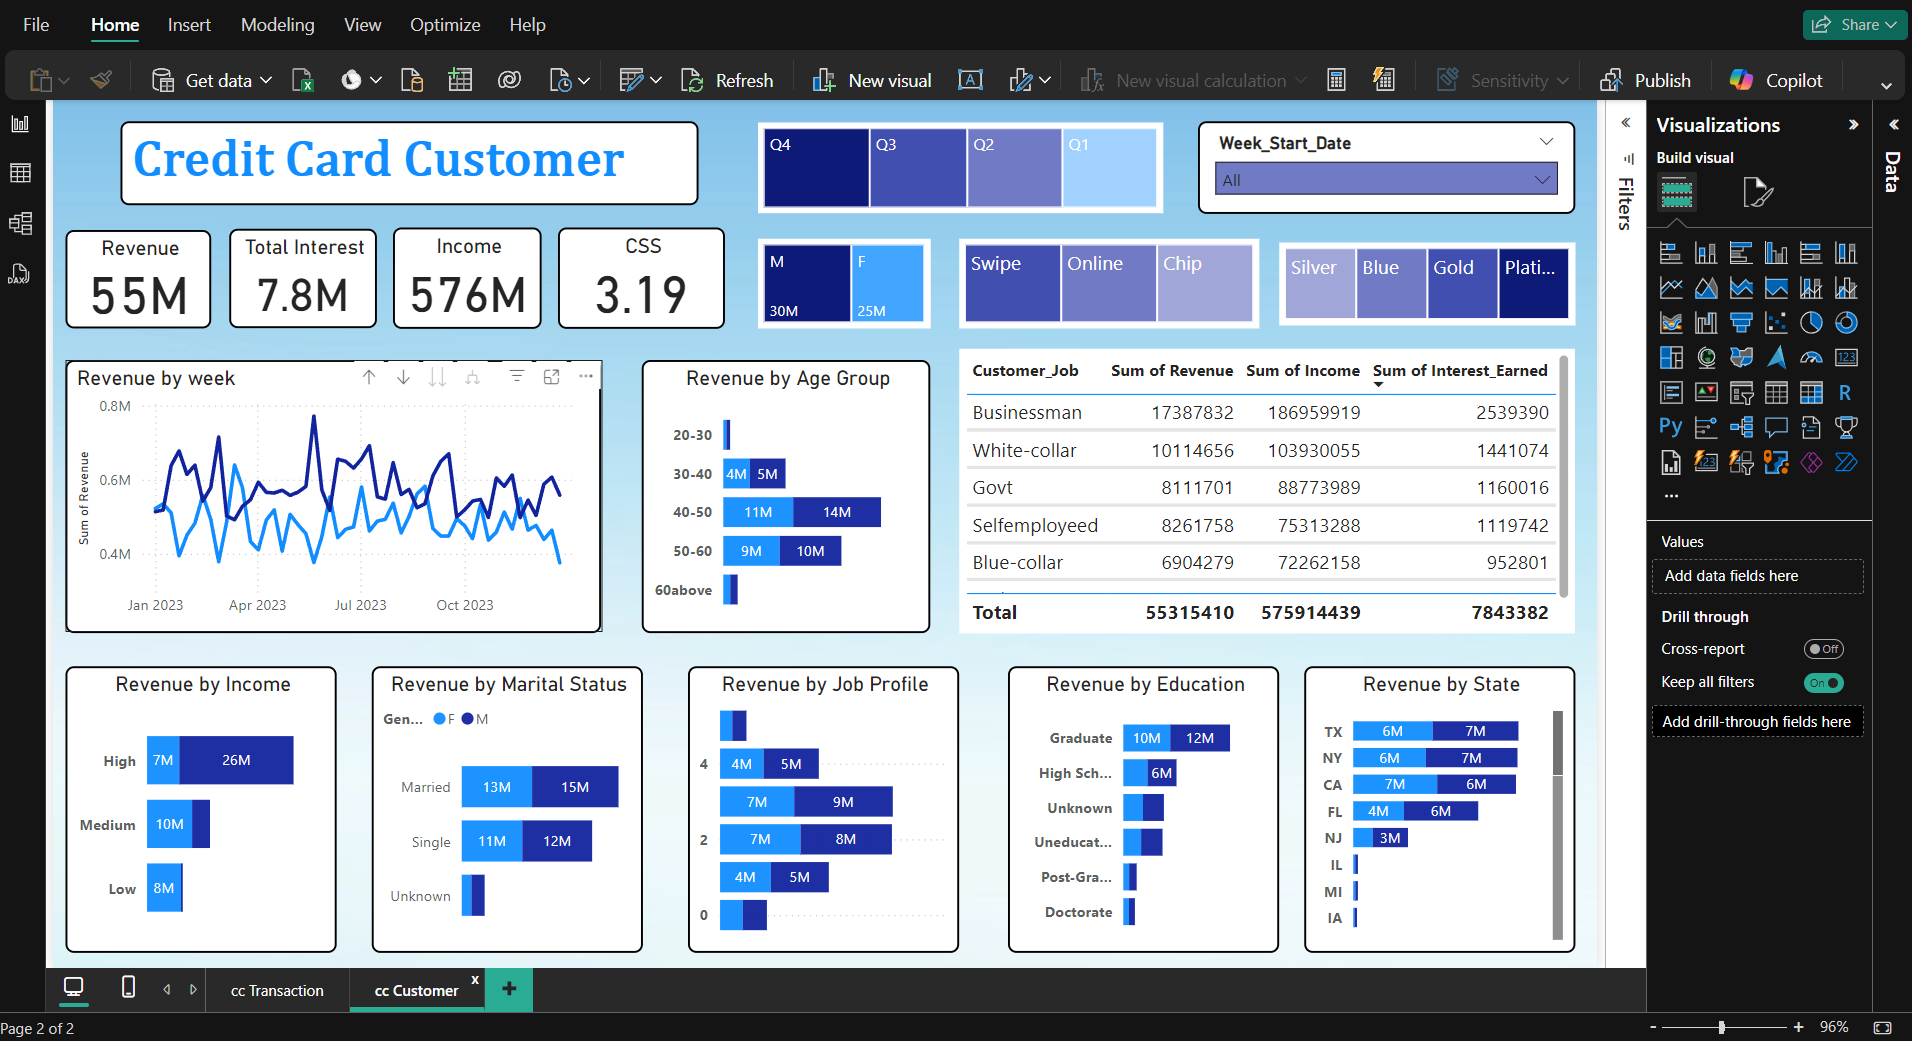

The page's visual inventory and layout, read from the dashboard file:
{"tool":"powerbi","page":{"name":"cc Customer","canvas":[1280,720],"ordinal":1},"visuals":[{"type":"textbox","box":[55.8,17.4,479.1,69.8],"z":0},{"type":"barChart","title":"Revenue by Income","fields":{"Y":["Sum(credit_card_db credit_card_details.Revenue)"],"Category":["credit_card_db customer_details.incomegroup"],"Series":["credit_card_db customer_details.Gender"]},"box":[10.5,469.8,225,237.2],"z":1000},{"type":"card","title":"Revenue","fields":{"Values":["Sum(credit_card_db credit_card_details.Revenue)"]},"box":[10.5,108.1,120.9,81.4],"z":2000},{"type":"card","title":"Total Interest","fields":{"Values":["Sum(credit_card_db credit_card_details.Interest_Earned)"]},"box":[146.5,107,122.1,82.6],"z":3000},{"type":"card","title":"Income","fields":{"Values":["Sum(credit_card_db customer_details.Income)"]},"box":[281.4,105.8,123.3,83.7],"z":4000},{"type":"card","title":"CSS","fields":{"Values":["Avg(credit_card_db customer_details.Cust_Satisfaction_Score)"]},"box":[418.6,105.8,138.4,83.7],"z":5000},{"type":"slicer","fields":{"Values":["credit_card_db credit_card_details.Week_Start_Date"]},"box":[948.8,17.4,312.8,76.7],"z":6000},{"type":"treemap","fields":{"Group":["credit_card_db credit_card_details.Qtr"],"Values":["Avg(credit_card_db credit_card_details.ï»¿Client_Num)"]},"box":[584.9,18.6,336,75.6],"z":7000},{"type":"treemap","fields":{"Group":["credit_card_db credit_card_details.Card_Category"],"Values":["Avg(credit_card_db credit_card_details.ï»¿Client_Num)"]},"box":[1016.3,118.6,245.3,68.6],"z":8000},{"type":"tableEx","fields":{"Values":["credit_card_db customer_details.Customer_Job","Sum(credit_card_db credit_card_details.Revenue)","Sum(credit_card_db customer_details.Income)","Sum(credit_card_db credit_card_details.Interest_Earned)"]},"box":[751.2,205.8,510.5,236],"z":10000},{"type":"lineChart","title":"Revenue by week","fields":{"Y":["Sum(credit_card_db credit_card_details.Revenue)"],"Category":["credit_card_db credit_card_details.Week_Start_Date.Variation.Date Hierarchy.Year","credit_card_db credit_card_details.Week_Start_Date.Variation.Date Hierarchy.Month","credit_card_db credit_card_details.Week_Start_Date.Variation.Date Hierarchy.Day"],"Series":["credit_card_db customer_details.Gender"]},"box":[10.5,215.1,444.2,226.7],"z":11000},{"type":"treemap","fields":{"Group":["credit_card_db customer_details.Gender"],"Values":["Sum(credit_card_db credit_card_details.Revenue)"]},"box":[584.9,115.1,143,74.4],"z":12000},{"type":"barChart","title":"Revenue by Age Group","fields":{"Y":["Sum(credit_card_db credit_card_details.Revenue)"],"Category":["credit_card_db customer_details.Agegroup"],"Series":["credit_card_db customer_details.Gender"]},"box":[488.4,215.1,239.5,226.7],"z":12001},{"type":"barChart","title":"Revenue by Job Profile","fields":{"Y":["Sum(credit_card_db credit_card_details.Revenue)"],"Category":["credit_card_db customer_details.Dependent_Count"],"Series":["credit_card_db customer_details.Gender"]},"box":[526.7,469.8,224.4,237.2],"z":12002},{"type":"barChart","title":"Revenue by Education","fields":{"Y":["Sum(credit_card_db credit_card_details.Revenue)"],"Category":["credit_card_db customer_details.Education_Level"],"Series":["credit_card_db customer_details.Gender"]},"box":[791.9,469.8,225,237.2],"z":12003},{"type":"barChart","title":"Revenue by State","fields":{"Y":["Sum(credit_card_db credit_card_details.Revenue)"],"Category":["credit_card_db customer_details.state_cd"],"Series":["credit_card_db customer_details.Gender"]},"box":[1037.2,469.8,224.4,237.2],"z":12004},{"type":"barChart","title":"Revenue by Marital Status","fields":{"Y":["Sum(credit_card_db credit_card_details.Revenue)"],"Category":["credit_card_db customer_details.Marital_Status"],"Series":["credit_card_db customer_details.Gender"]},"box":[264,469.8,224.4,237.2],"z":12005},{"type":"treemap","fields":{"Group":["credit_card_db credit_card_details.Use Chip"],"Values":["Avg(credit_card_db credit_card_details.ï»¿Client_Num)"]},"box":[751.2,115.1,248.8,74.4],"z":12006}]}

Visuals, with their boxes on the page's 1280x720 design canvas (x1, y1, x2, y2). These are canvas units, not pixel positions in the 1912x1041 screenshot, which may show the page scaled, cropped or inside an application window:
textbox: l=56, t=17, r=535, b=87
"Revenue by Income" barChart: l=10, t=470, r=236, b=707
"Revenue" card: l=10, t=108, r=131, b=190
"Total Interest" card: l=146, t=107, r=269, b=190
"Income" card: l=281, t=106, r=405, b=190
"CSS" card: l=419, t=106, r=557, b=190
slicer - credit_card_db credit_card_details.Week_Start_Date: l=949, t=17, r=1262, b=94
treemap - credit_card_db credit_card_details.Qtr x Avg(credit_card_db credit_card_details.ï»¿Client_Num): l=585, t=19, r=921, b=94
treemap - credit_card_db credit_card_details.Card_Category x Avg(credit_card_db credit_card_details.ï»¿Client_Num): l=1016, t=119, r=1262, b=187
tableEx - credit_card_db customer_details.Customer_Job x Sum(credit_card_db credit_card_details.Revenue): l=751, t=206, r=1262, b=442
"Revenue by week" lineChart: l=10, t=215, r=455, b=442
treemap - credit_card_db customer_details.Gender x Sum(credit_card_db credit_card_details.Revenue): l=585, t=115, r=728, b=190
"Revenue by Age Group" barChart: l=488, t=215, r=728, b=442
"Revenue by Job Profile" barChart: l=527, t=470, r=751, b=707
"Revenue by Education" barChart: l=792, t=470, r=1017, b=707
"Revenue by State" barChart: l=1037, t=470, r=1262, b=707
"Revenue by Marital Status" barChart: l=264, t=470, r=488, b=707
treemap - credit_card_db credit_card_details.Use Chip x Avg(credit_card_db credit_card_details.ï»¿Client_Num): l=751, t=115, r=1000, b=190
